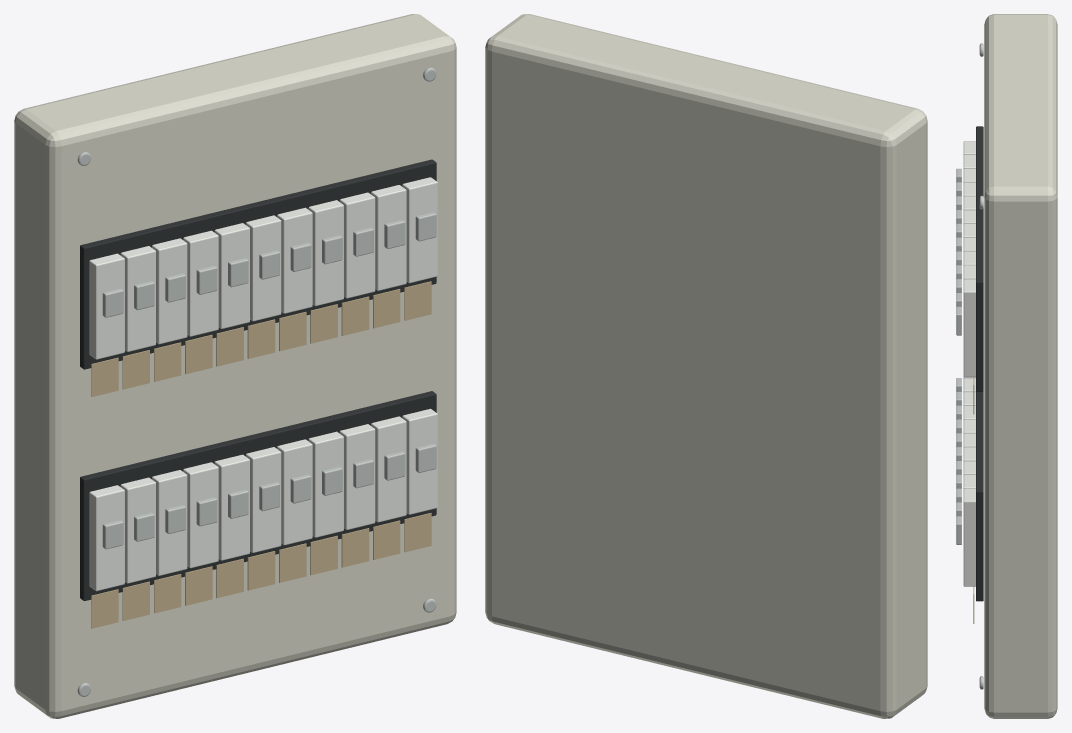
File: electrical-panel.glb
3 renders of one model, left to right at view 1: azimuth 30°, elevation 25°; view 2: azimuth 150°, elevation 25°; view 3: azimuth 270°, elevation 25°, orthographic. The views are drawn at different scales.
Parts seen in each view (by area): view 1: electrical-panel · cream.001, electrical-panel · white.002, electrical-panel · paper.001, electrical-panel · charcoal.002, electrical-panel · silver.002; view 2: electrical-panel · cream.001; view 3: electrical-panel · cream.001, electrical-panel · white.002, electrical-panel · charcoal.002, electrical-panel · silver.002.
Boxes of the visible parts, x1,y1,x2,y2 form: electrical-panel · cream.001: (14, 14, 456, 718); electrical-panel · white.002: (89, 177, 437, 591); electrical-panel · paper.001: (91, 281, 431, 628); electrical-panel · charcoal.002: (80, 159, 436, 600); electrical-panel · silver.002: (77, 67, 436, 696); electrical-panel · cream.001: (485, 14, 927, 718); electrical-panel · cream.001: (984, 14, 1057, 718); electrical-panel · white.002: (963, 141, 975, 586); electrical-panel · charcoal.002: (976, 126, 983, 601); electrical-panel · silver.002: (956, 43, 983, 689).
Size of the model in its own units: 0.38 by 0.52 by 0.09.
